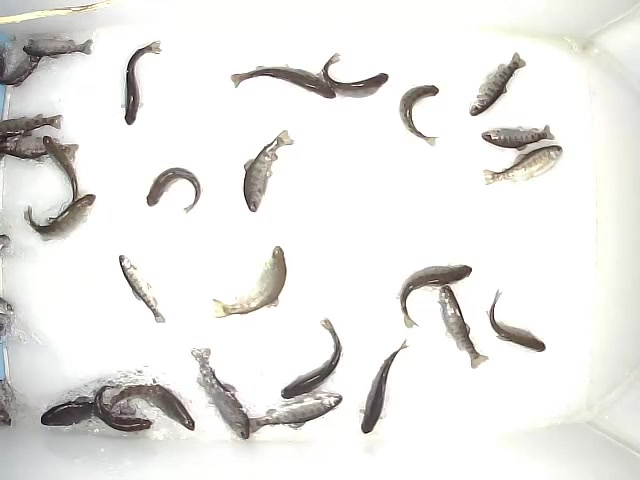fish: (210, 243, 291, 320), (278, 315, 344, 400), (397, 260, 477, 330), (358, 336, 412, 435), (191, 349, 248, 439), (435, 281, 491, 370), (103, 379, 196, 431), (242, 127, 295, 214), (486, 288, 548, 355), (247, 392, 343, 435), (231, 64, 339, 102), (467, 51, 527, 119), (479, 142, 564, 189), (120, 37, 162, 127), (20, 192, 97, 241), (118, 253, 167, 325), (323, 49, 389, 100), (41, 132, 80, 217), (397, 81, 442, 147), (96, 380, 151, 432), (146, 165, 202, 212), (479, 121, 557, 151), (39, 397, 112, 427), (19, 34, 97, 61)
